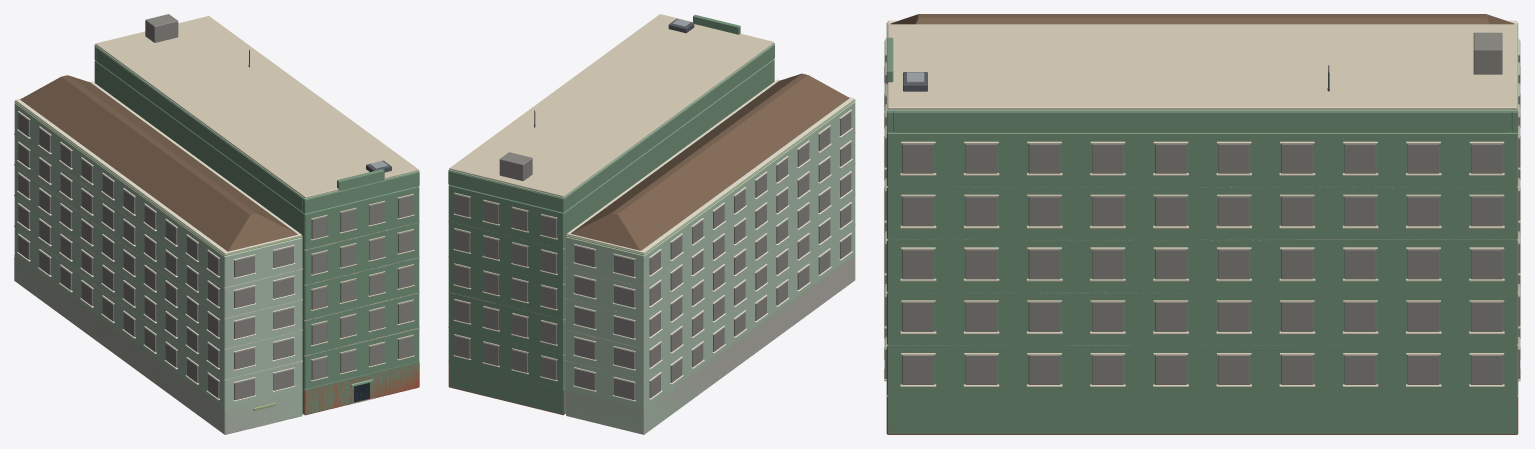
Rendered from VG_Bld_Residential_18.fbx.
3 views of the same model, side by side, from view 1: azimuth 30°, elevation 25°; view 2: azimuth 150°, elevation 25°; view 3: azimuth 270°, elevation 25° (orthographic). The views are drawn at different scales.
Parts seen in each view (by area): view 1: VG_Bld_Residential_18_Body; view 2: VG_Bld_Residential_18_Body; view 3: VG_Bld_Residential_18_Body.
Part boxes in pixels (x1=…): VG_Bld_Residential_18_Body: x1=14, y1=14, x2=419, y2=434; VG_Bld_Residential_18_Body: x1=448, y1=14, x2=855, y2=434; VG_Bld_Residential_18_Body: x1=884, y1=14, x2=1520, y2=434.
Bounding box in the file's own units: 26 × 29.4 × 48.
